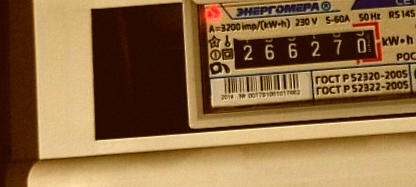0: (354, 36, 368, 54)
2: (239, 42, 254, 61), (308, 38, 321, 57)
6: (285, 41, 299, 60), (262, 42, 276, 60)
7: (331, 37, 344, 55)
screen: (221, 17, 388, 78)
